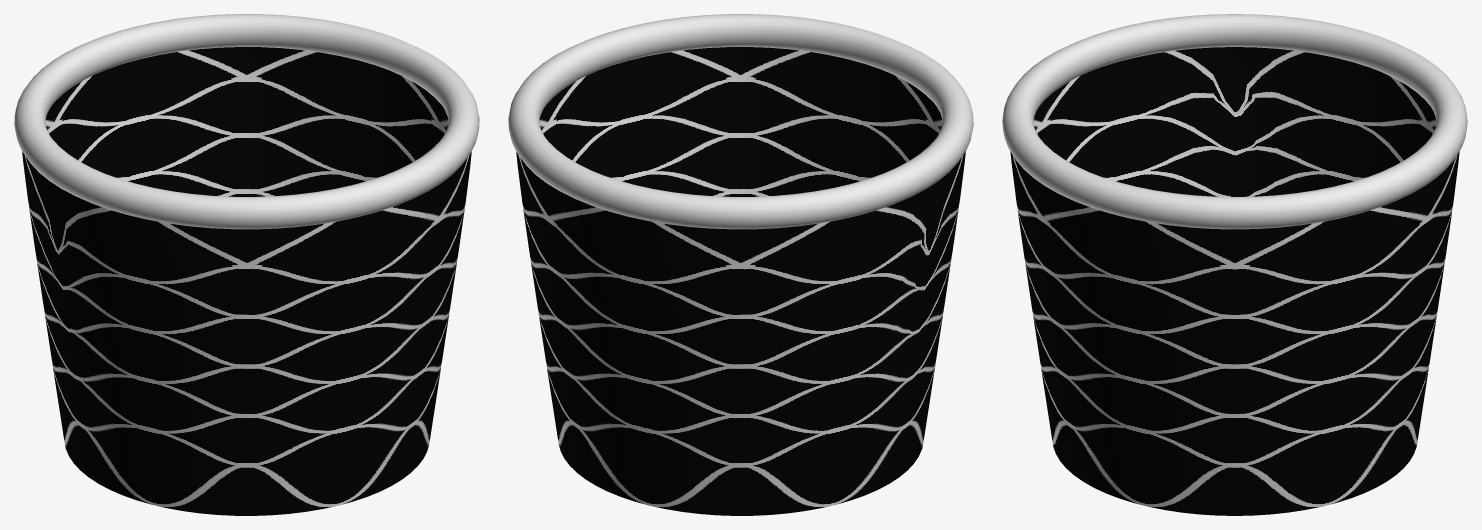
File: Basket_V1.fbx
3 renders of one model, left to right at view 1: azimuth 30°, elevation 25°; view 2: azimuth 150°, elevation 25°; view 3: azimuth 270°, elevation 25°, orthographic.
Parts seen in each view (by area): view 1: Net, Circle; view 2: Net, Circle; view 3: Net, Circle.
Part boxes in pixels (left/top/right/bottom): Net: left=22, top=47, right=471, bottom=515; Circle: left=14, top=14, right=479, bottom=229; Net: left=516, top=47, right=965, bottom=515; Circle: left=508, top=14, right=973, bottom=229; Net: left=1010, top=47, right=1459, bottom=515; Circle: left=1002, top=14, right=1467, bottom=229.
Size of the model in its own units: 96.87 by 76.16 by 96.87.
